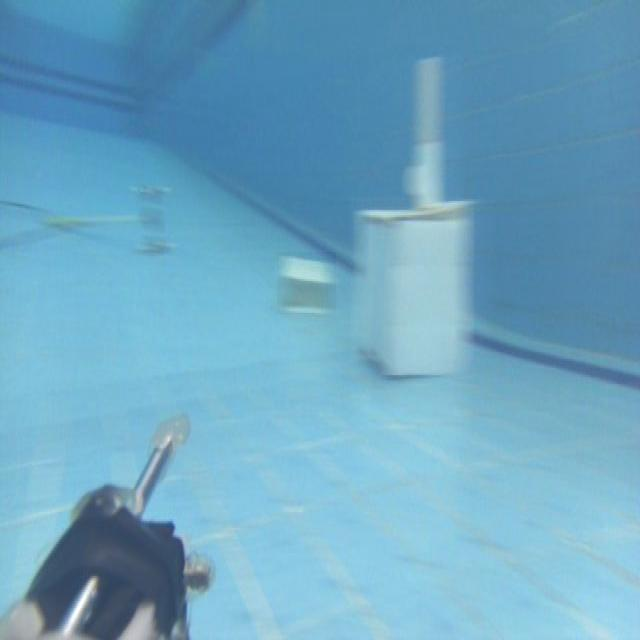Cube: (350, 197, 474, 379)
Cuboid: (277, 252, 336, 314)
